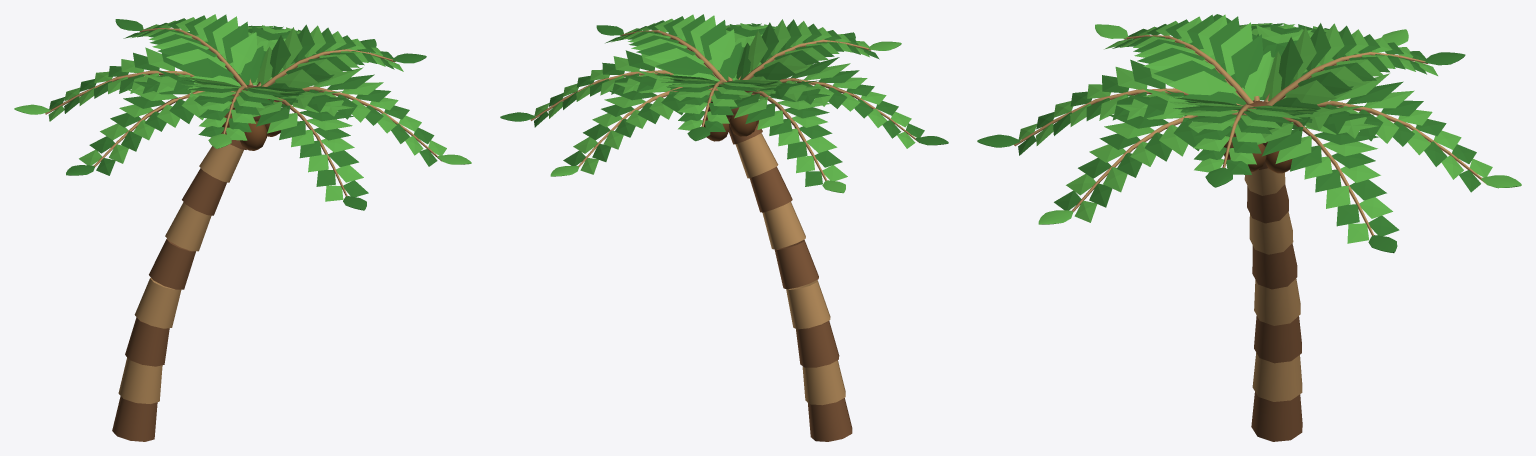
File: TreePalm.glb
3 views of the same model, side by side, from view 1: azimuth 30°, elevation 25°; view 2: azimuth 150°, elevation 25°; view 3: azimuth 270°, elevation 25° (orthographic). The views are drawn at different scales.
Parts seen in each view (by area): view 1: Fronds, Body; view 2: Fronds, Body; view 3: Fronds, Body.
Part boxes in pixels (bbox=[...]): Fronds: bbox=[14, 14, 471, 210]; Body: bbox=[112, 127, 246, 441]; Fronds: bbox=[500, 14, 948, 193]; Body: bbox=[728, 120, 852, 441]; Fronds: bbox=[977, 14, 1521, 253]; Body: bbox=[1244, 162, 1302, 441].
Bounding box in the file's own units: 11.18 × 10.13 × 11.57.
Materials: 2 (2 with a texture image).
